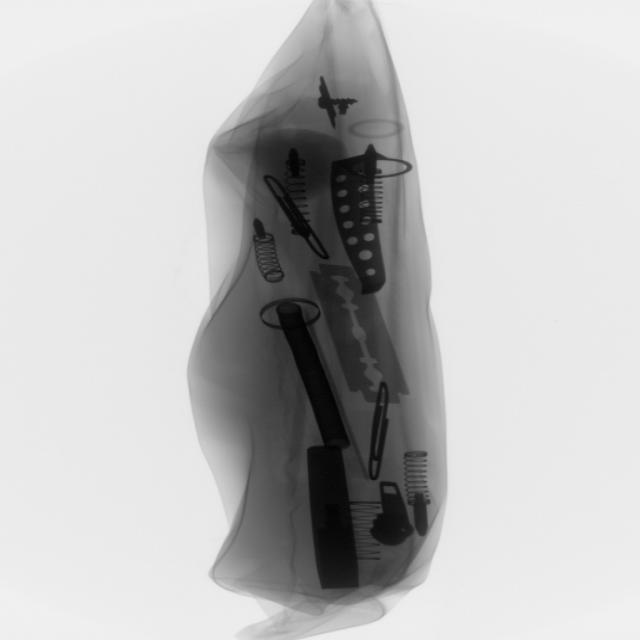BLADE: (308, 254, 413, 414), (356, 378, 402, 482)
